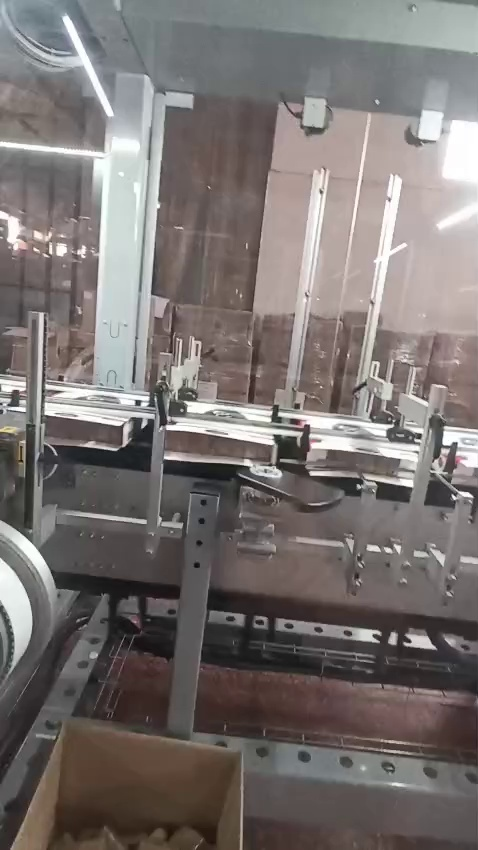savon: (14, 718, 256, 850), (207, 272, 248, 311), (308, 358, 324, 411), (10, 433, 24, 469), (196, 448, 240, 454), (164, 258, 172, 286)
